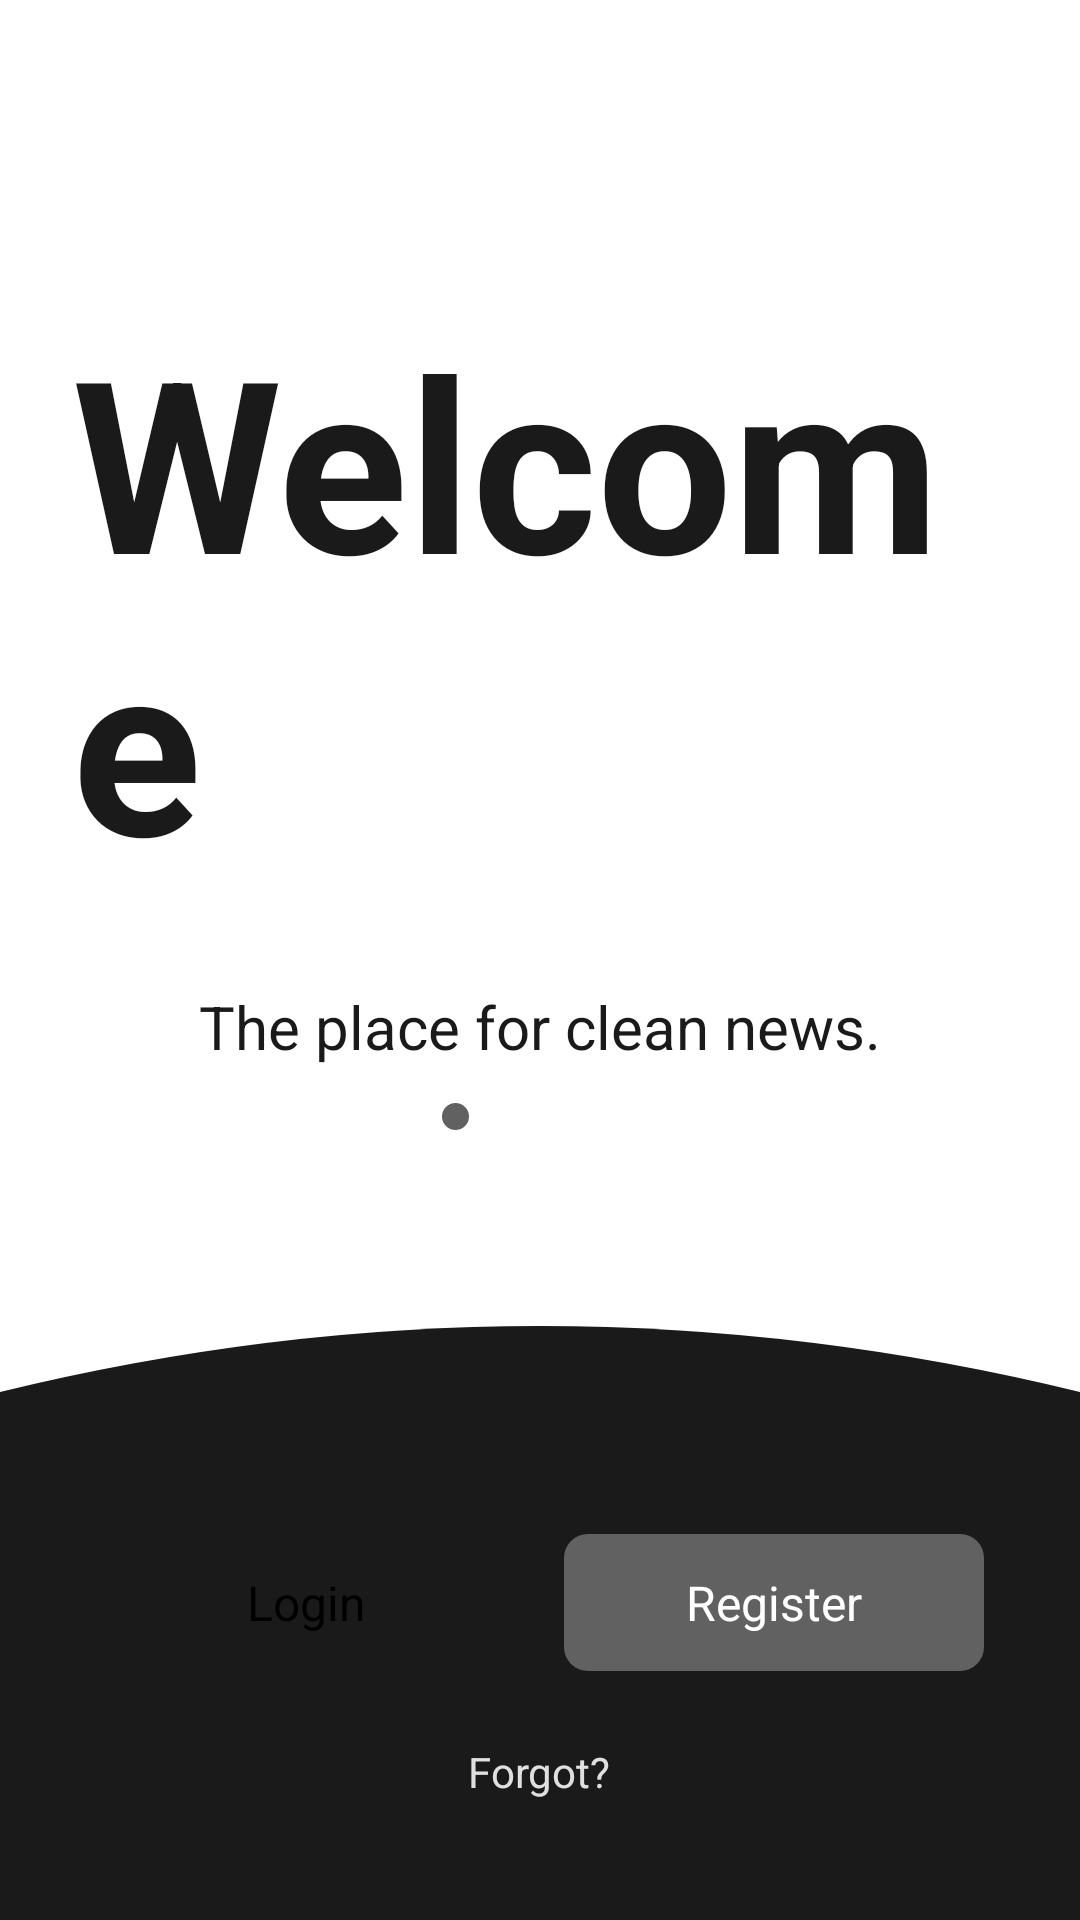

Named icons in this screenshot (1080*1920) and their bounding boxes, (x1, y1, x2, y2):
dot indicator: (442, 1103, 469, 1130)
